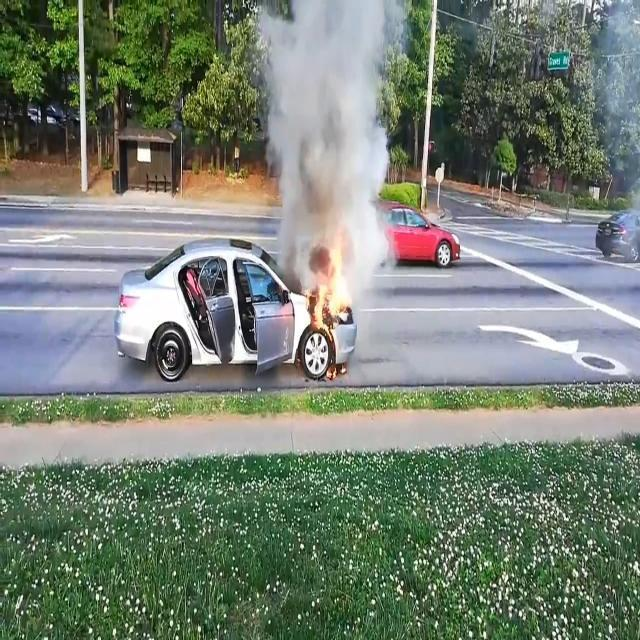fire: (299, 220, 359, 384)
